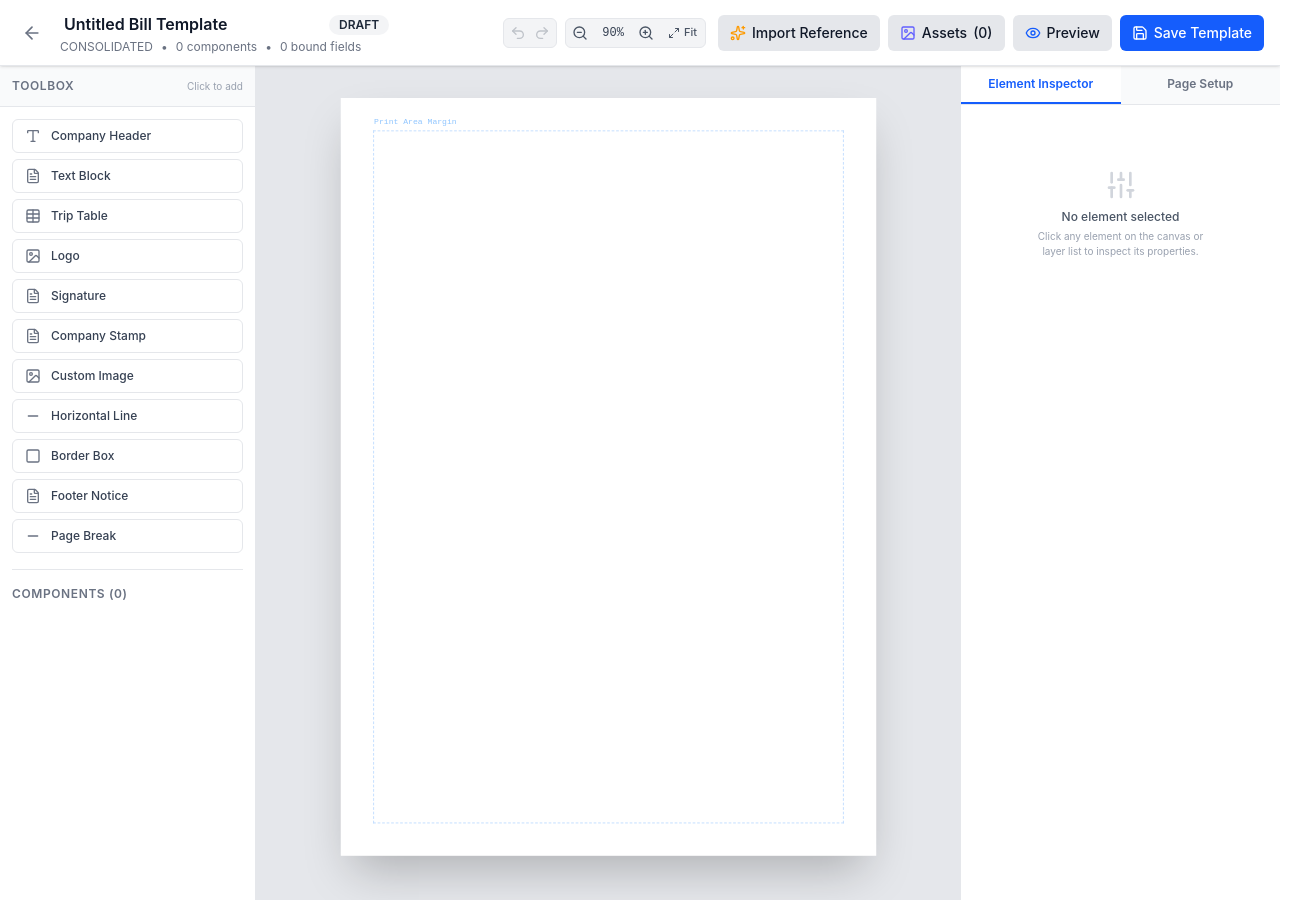
BillDesigner Visual Editor › adds a Page Break component and displays the dedicated semantics card in the inspector
# Add Page Break from palette
Step 1. Click the button "Page Break" → (128, 536), box [12,519,243,553]
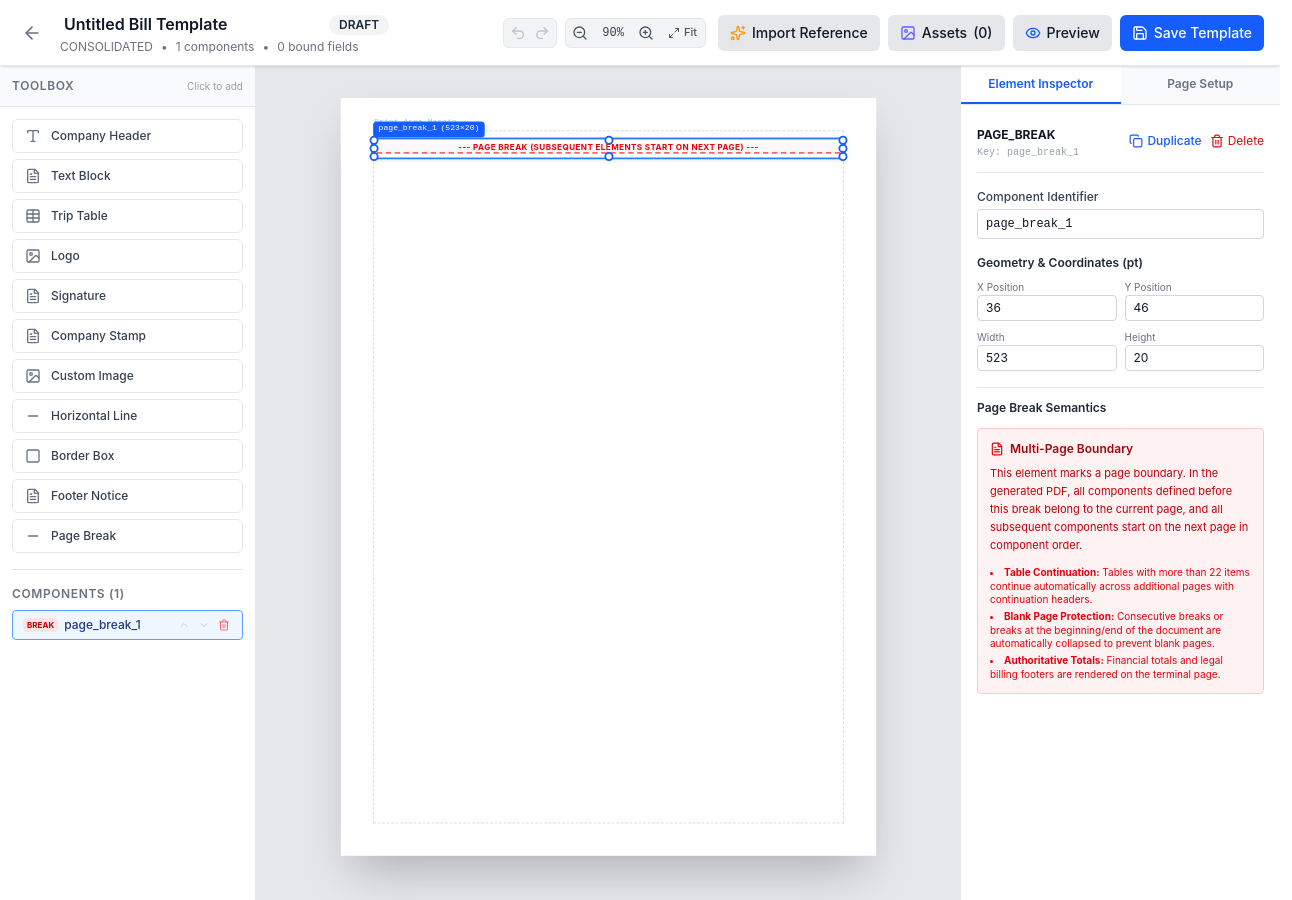
Expected: the text "Page Break Semantics" is shown, [977,400,1106,415]
Expected: the text "Multi-Page Boundary" is shown, [990,441,1133,456]
Expected: the text "This element marks a page boundary" is shown, [990,466,1248,552]
